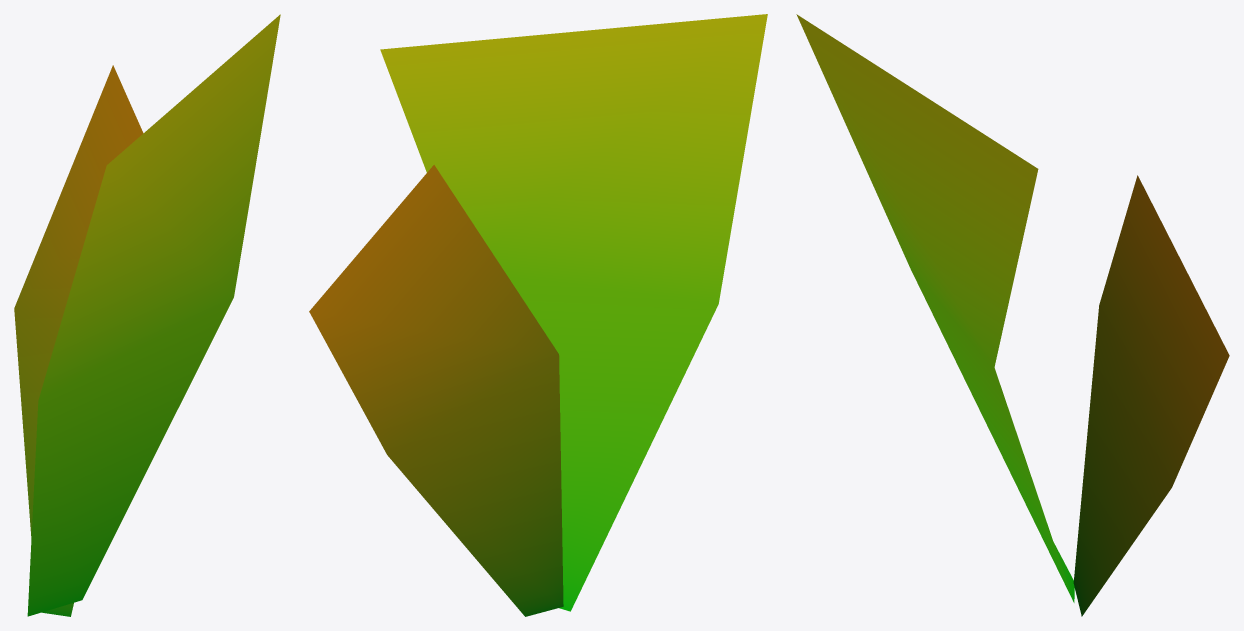
File: Ocean Seaweed_LOD1_Var4_sdDkn.fbx
3 renders of one model, left to right at view 1: azimuth 30°, elevation 25°; view 2: azimuth 150°, elevation 25°; view 3: azimuth 270°, elevation 25°, orthographic. The views are drawn at different scales.
Visible parts, largest first — view 1: _c6e2_Var4_LOD1; view 2: _c6e2_Var4_LOD1; view 3: _c6e2_Var4_LOD1.
Part boxes in pixels (box(x1,y1,x2,y2)): _c6e2_Var4_LOD1: box(14, 14, 280, 616); _c6e2_Var4_LOD1: box(309, 14, 767, 616); _c6e2_Var4_LOD1: box(796, 14, 1229, 616).
Size of the model in its own units: 14.19 by 25.83 by 18.46.
